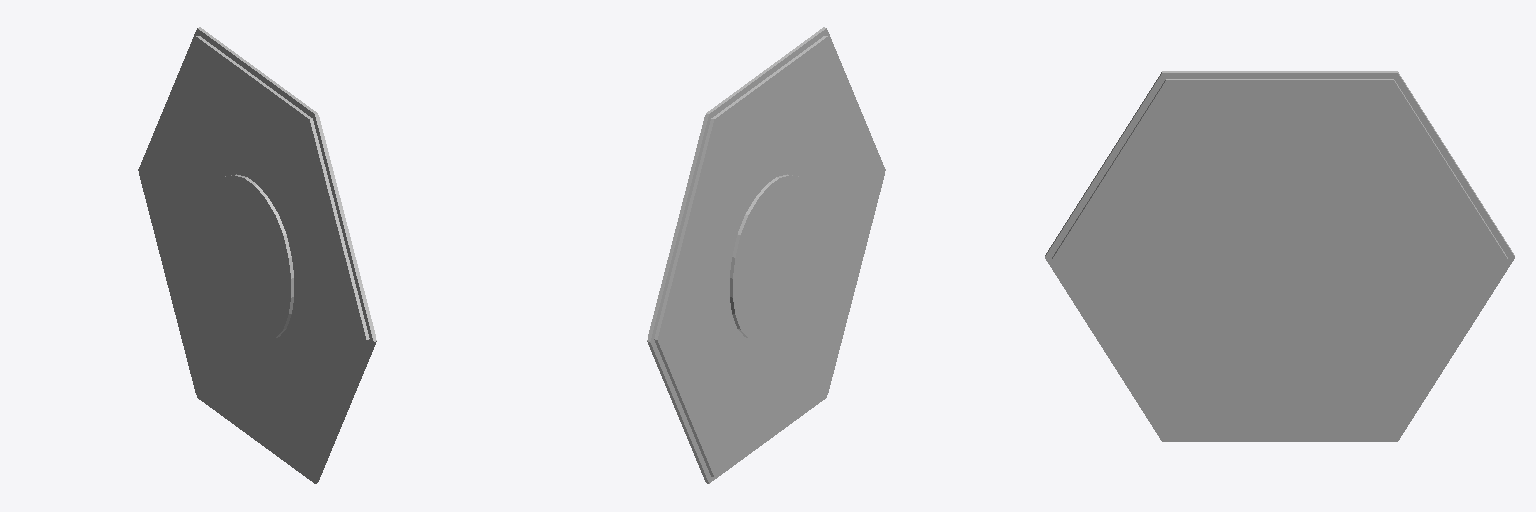
File: LeftWheel.obj
The picture shows the model from 3 angles: view 1: azimuth 30°, elevation 25°; view 2: azimuth 150°, elevation 25°; view 3: azimuth 270°, elevation 25°; orthographic projection.
Visible parts, largest first — view 1: entity0_brush0, entity0_brush2, entity0_brush1; view 2: entity0_brush0, entity0_brush2, entity0_brush1; view 3: entity0_brush0, entity0_brush1.
Part boxes in pixels (bbox=[...]): entity0_brush0: bbox=[139, 36, 375, 476]; entity0_brush2: bbox=[208, 174, 293, 339]; entity0_brush1: bbox=[138, 27, 376, 483]; entity0_brush0: bbox=[648, 36, 884, 476]; entity0_brush2: bbox=[730, 174, 815, 339]; entity0_brush1: bbox=[647, 27, 885, 483]; entity0_brush0: bbox=[1052, 79, 1507, 437]; entity0_brush1: bbox=[1045, 71, 1514, 441].
Bounding box in the file's own units: 4 × 107 × 124.